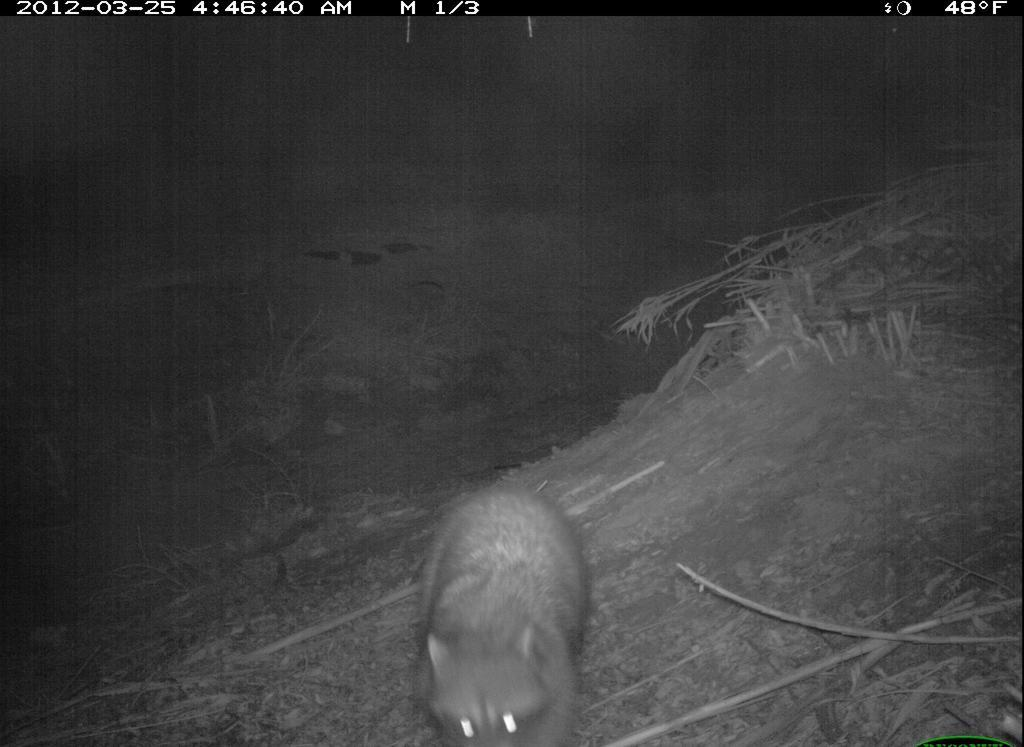raccoon: (401, 484, 601, 739)
